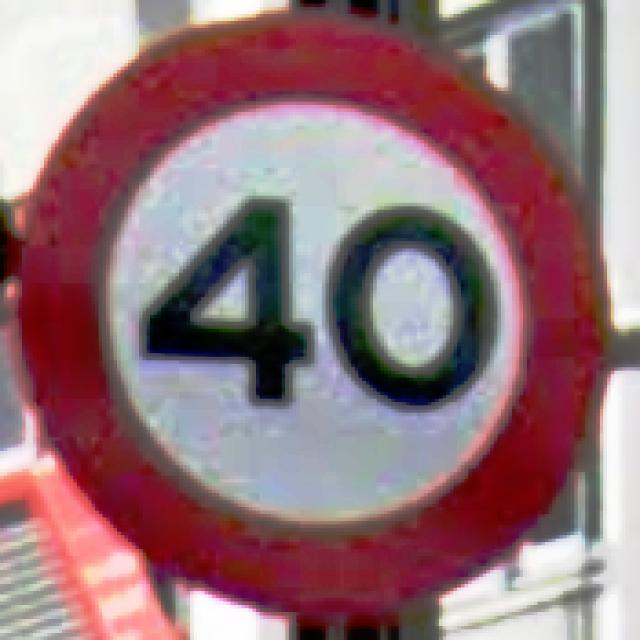max40: (8, 4, 614, 619)
